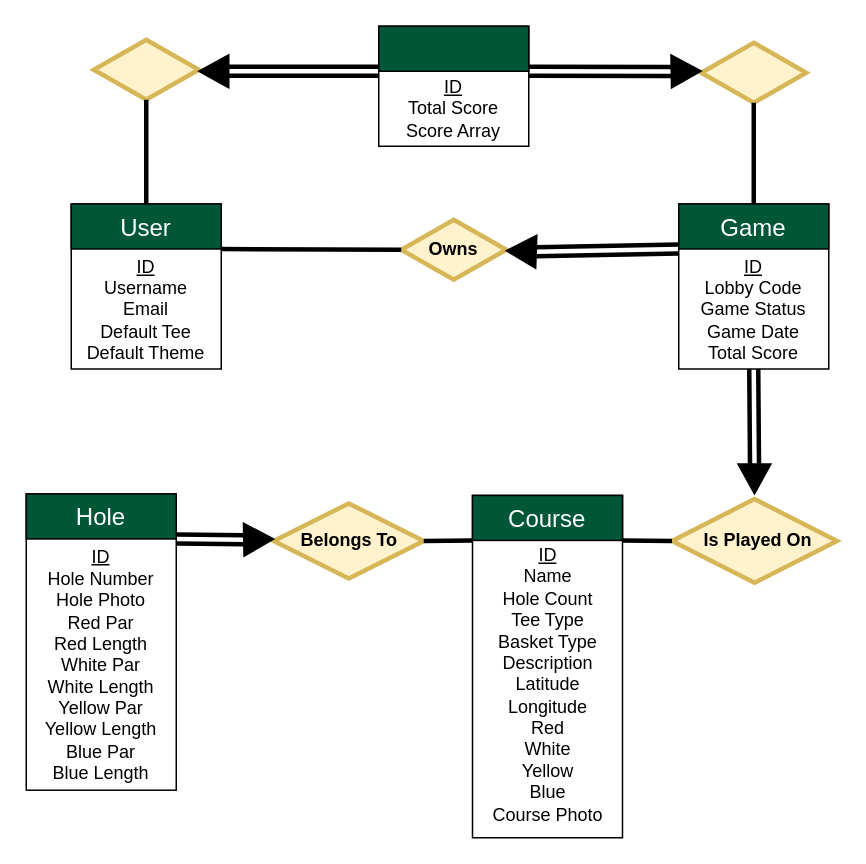
Some shapes in this 866 by 864 pixel diagram are drawn without their labels. The box of each missing label's shape, as (x1, y1, x2, y2) in pixels:
Is a: (91, 37, 200, 101)
Player: (377, 25, 529, 71)
Plays: (698, 40, 808, 104)
